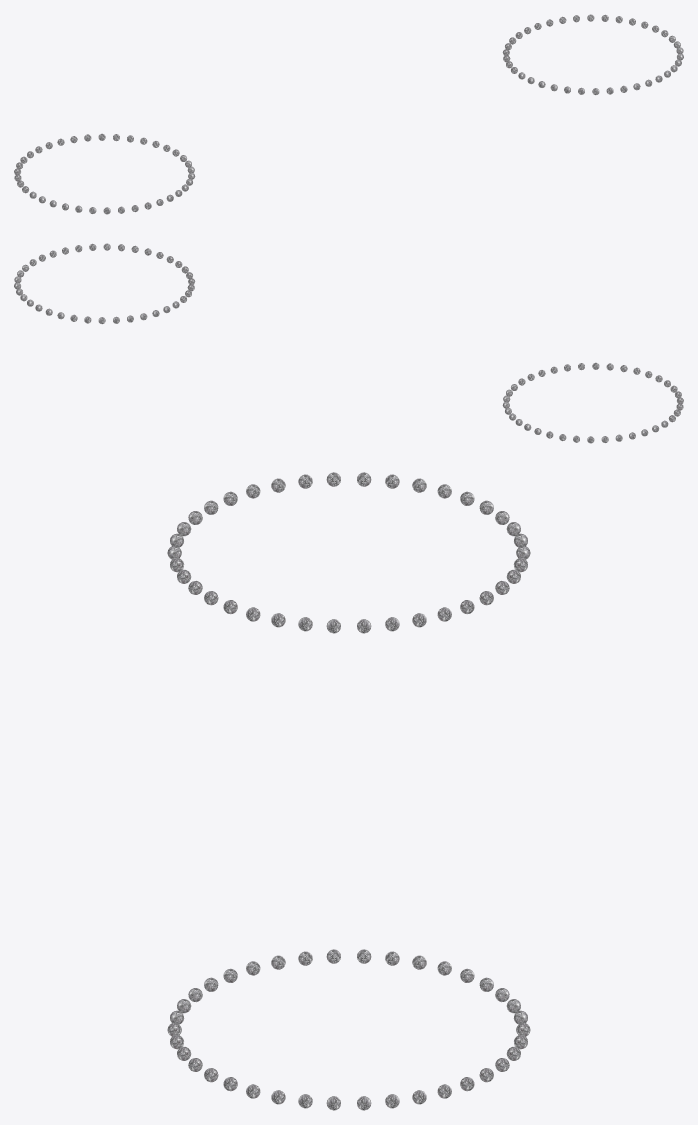
File: lamp_stages.glb
The picture shows the model from 3 angles, top to bottom: view 1: azimuth 30°, elevation 25°; view 2: azimuth 150°, elevation 25°; view 3: azimuth 270°, elevation 25°; orthographic projection. The views are drawn at different scales.
Visible parts, largest first — view 1: Lamp Stages; view 2: Lamp Stages; view 3: Lamp Stages.
Boxes of the visible parts, <box> form: Lamp Stages: <box>14,14,683,214</box>; Lamp Stages: <box>14,243,683,443</box>; Lamp Stages: <box>167,472,530,1110</box>.
Size of what is drawn, in the model's own units: 23.2 by 0.2252 by 5.65.
1 material, 1 textured.
